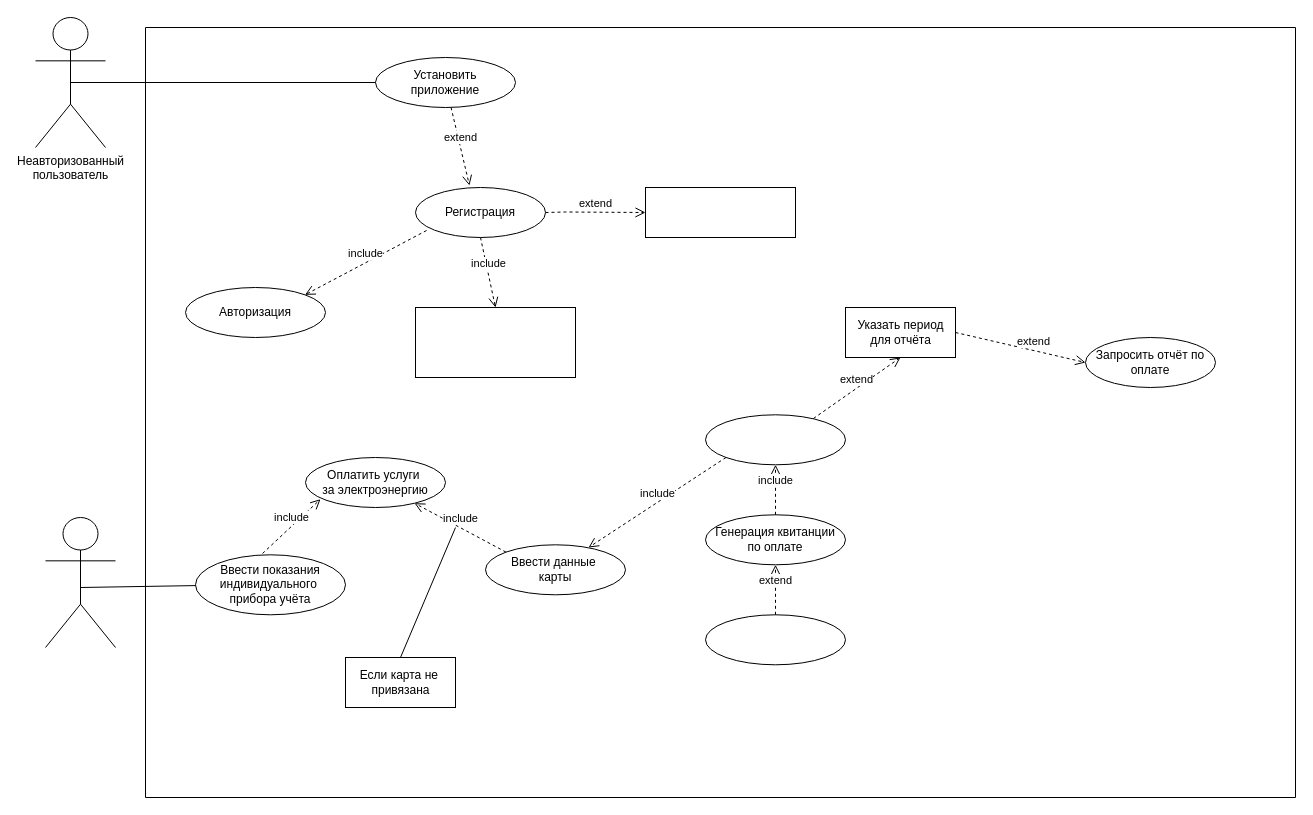
Some shapes in this 1313 by 815 pixel diagram are drawn without their labels. The centre of each missing label's shape, as x and y in pixels:
Авторизованный пользователь: point (80, 582)
Подтвердить оплату: point (775, 439)
Привязать данные банковской карты: point (720, 212)
Скачать квитанцию: point (775, 639)
Указать личные данные( ФИО, пароль, лицевой счёт): point (495, 342)
